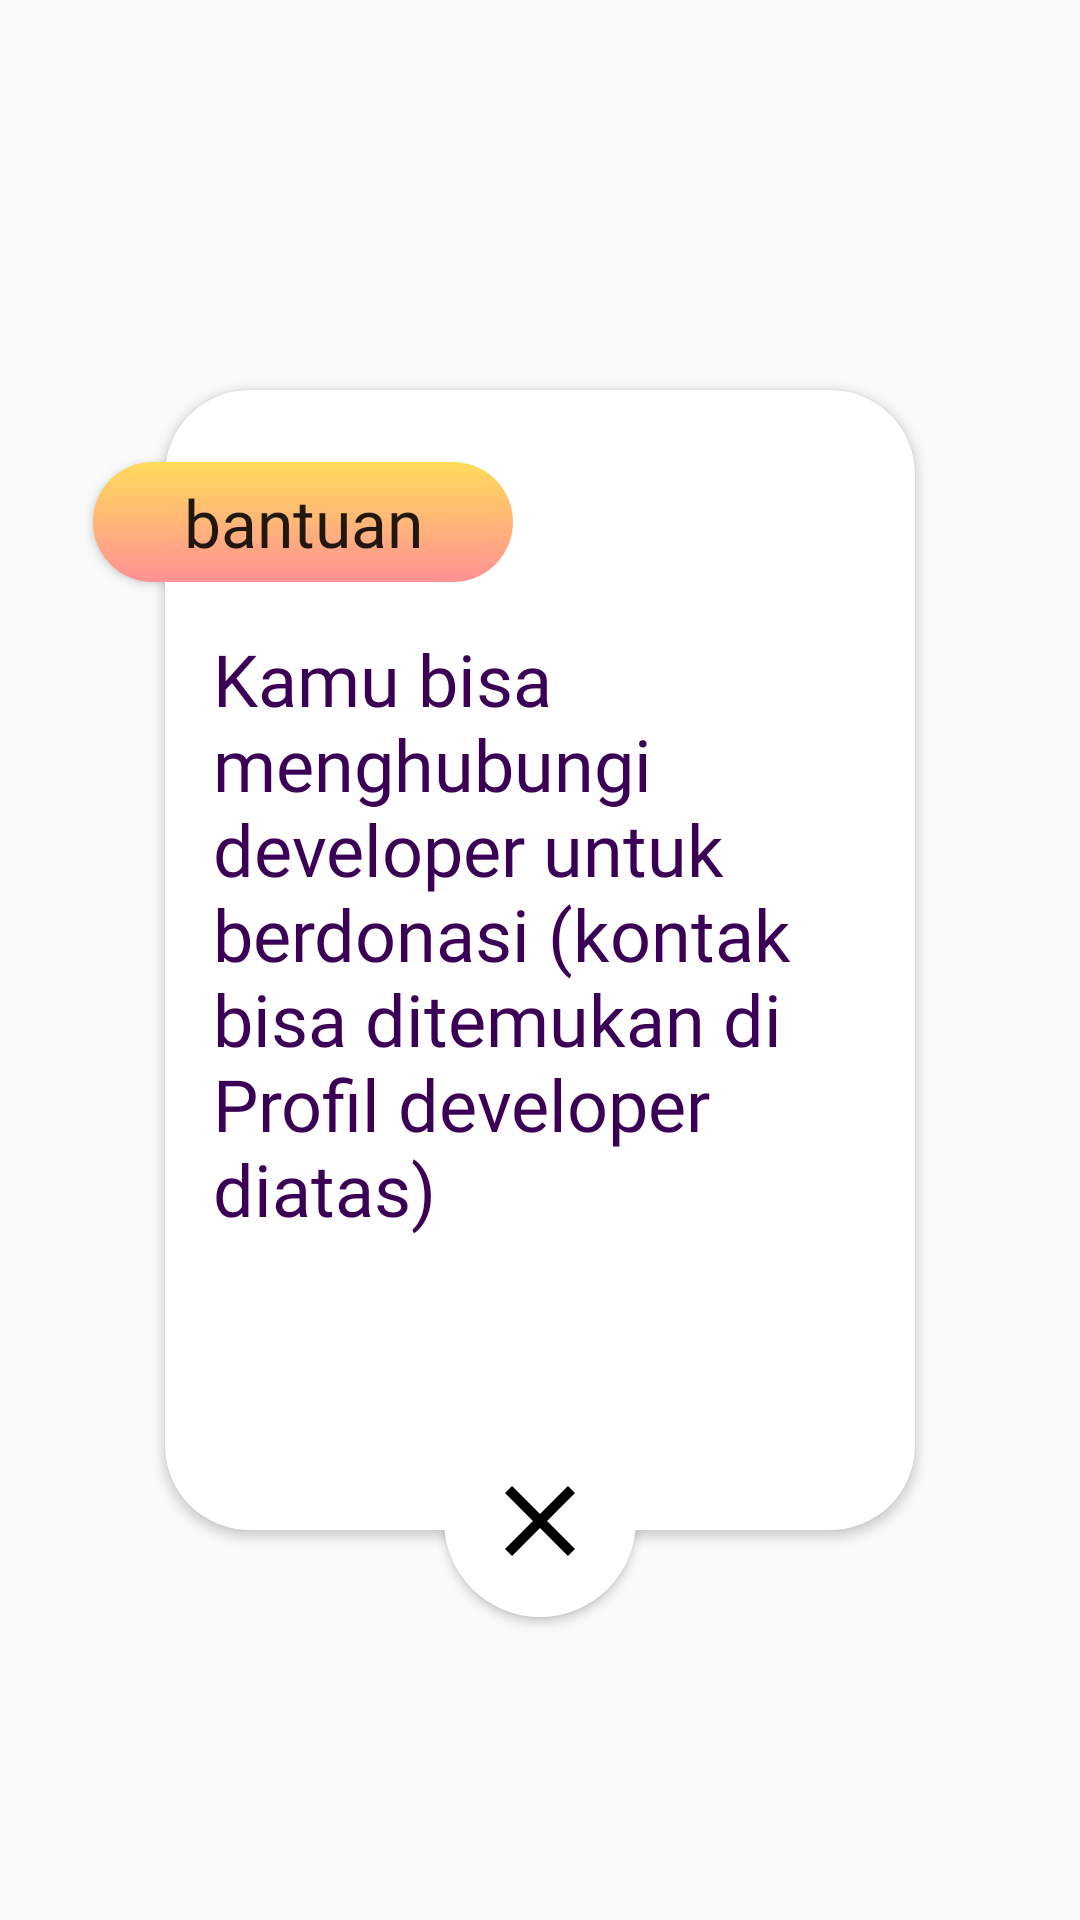

Named icons in this screenshot (1080px x 1920px) and their bounding boxes, (x1, y1, x2, y2):
closepopup: (505, 1486, 575, 1556)
